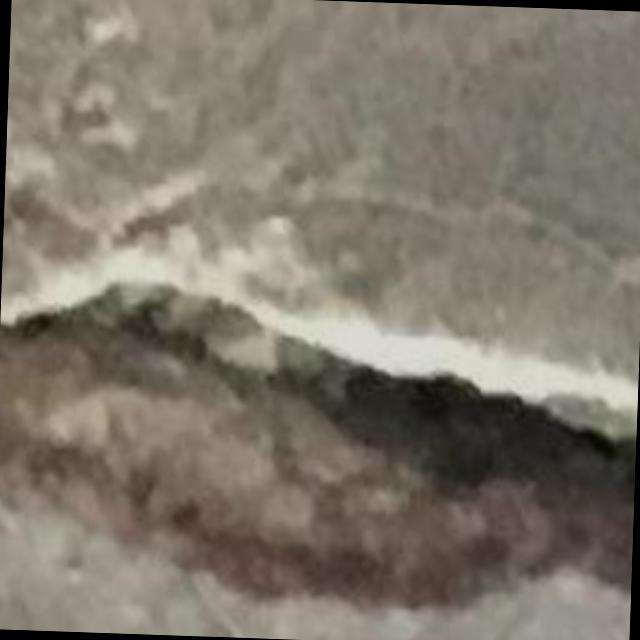crack: (0, 281, 635, 609)
